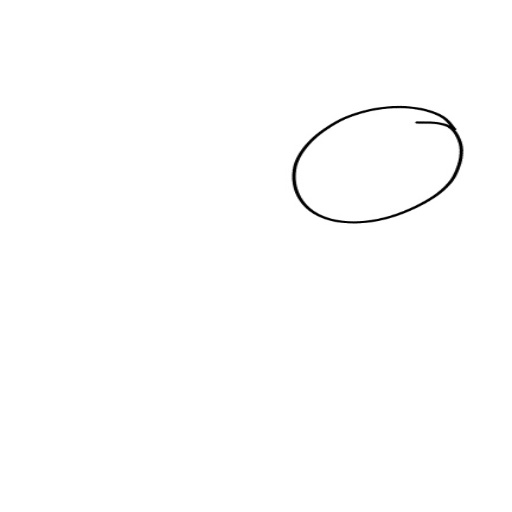circle: (282, 100, 474, 229)
